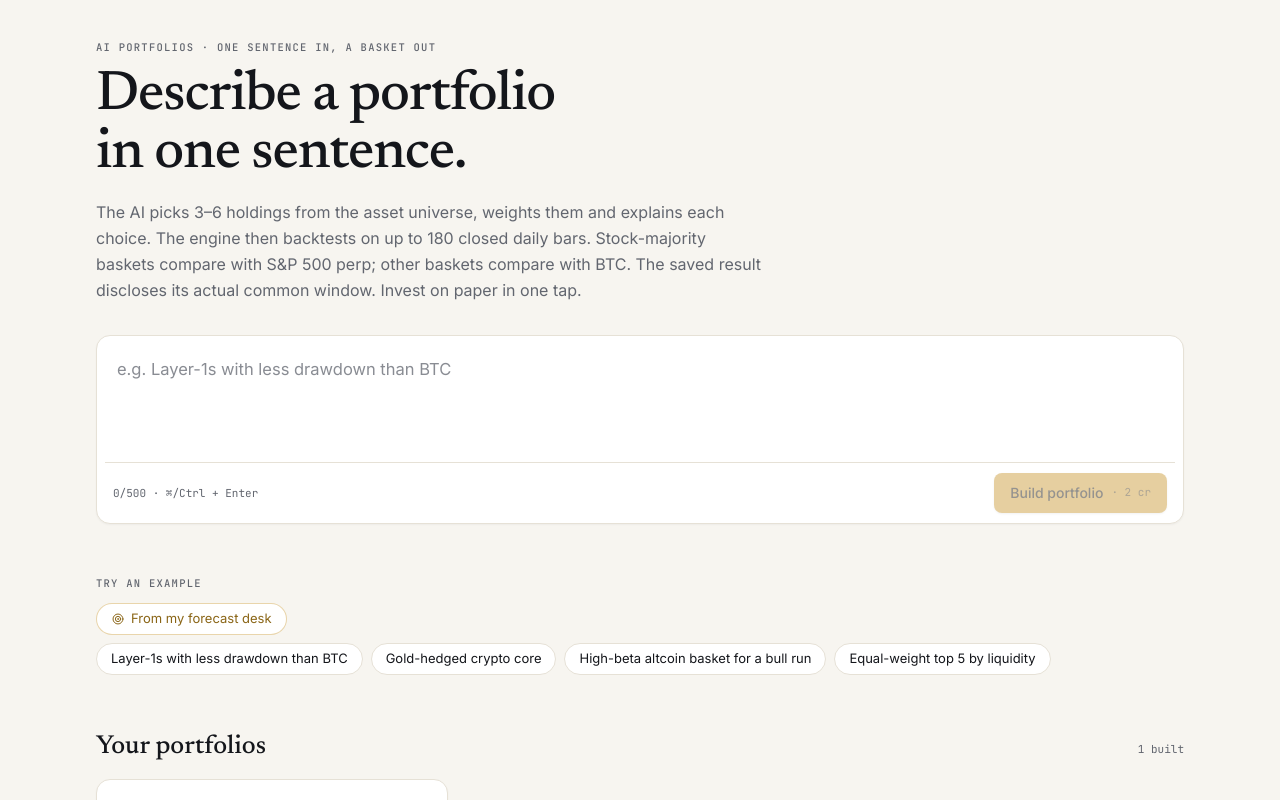
Test: PortfoliosPage › starts from the forecast desk in one tap
This screenshot has width=1280, height=800.
Click the button "From my forecast desk": (191, 619) [96, 603, 287, 635]
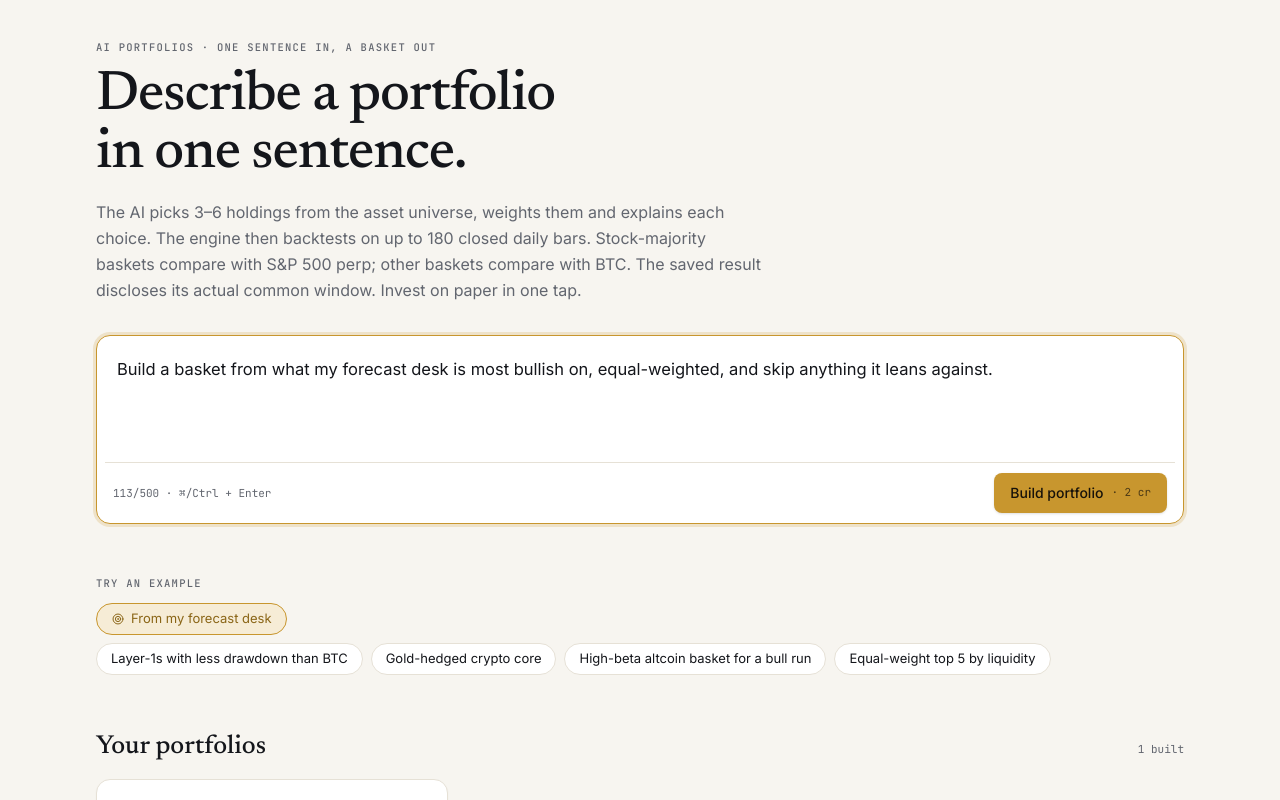
Expected: the text box named "Describe your portfolio" holds "Build a basket from what my forecast desk is most bullish on, equal-weighted, and skip anything it leans against.", [105, 344, 1175, 456]
